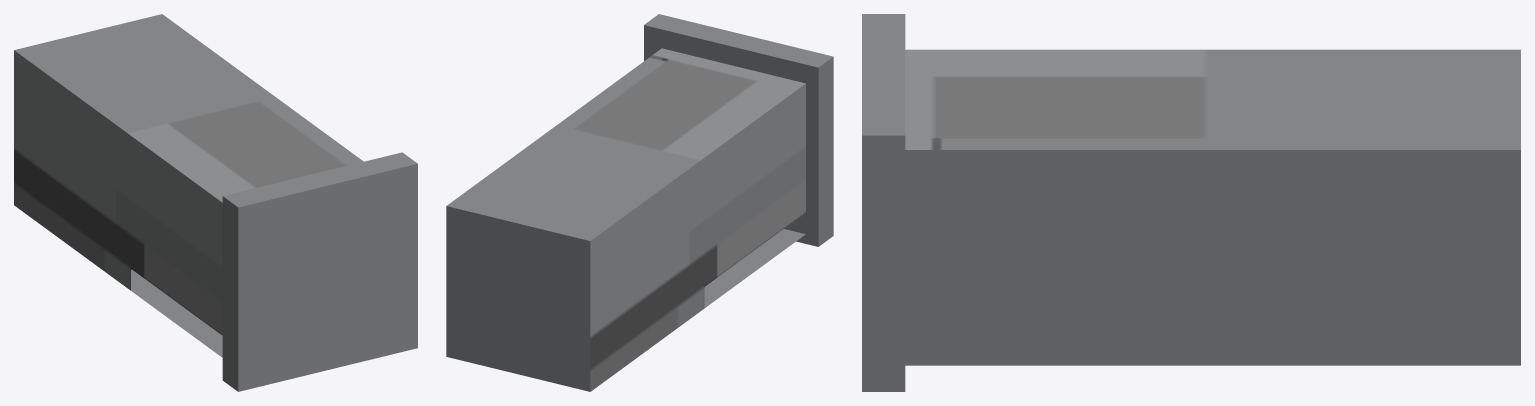
3 renders of one model, left to right at view 1: azimuth 30°, elevation 25°; view 2: azimuth 150°, elevation 25°; view 3: azimuth 270°, elevation 25°, orthographic. The views are drawn at different scales.
Bounding box in the file's own units: 0.9696 × 0.9514 × 2.22.
